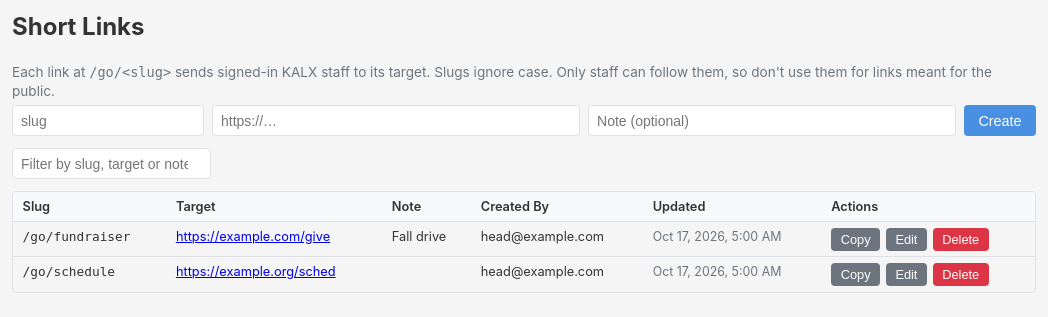
Test: ShortLinksSection › edits a link in place
Step 1. Click the button with aria-label "Edit /go/fundraiser" → (906, 239), box [886,228,927,251]
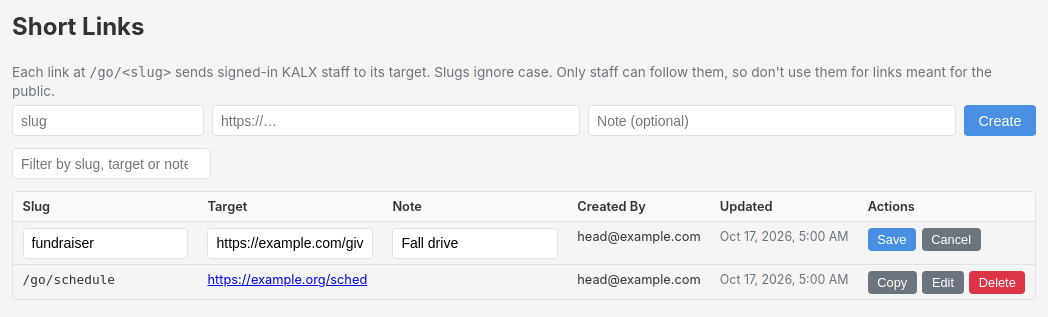
Step 2. Replace the text in the field named "Edit slug" with "drive" → (105, 243), box [23,228,188,258]
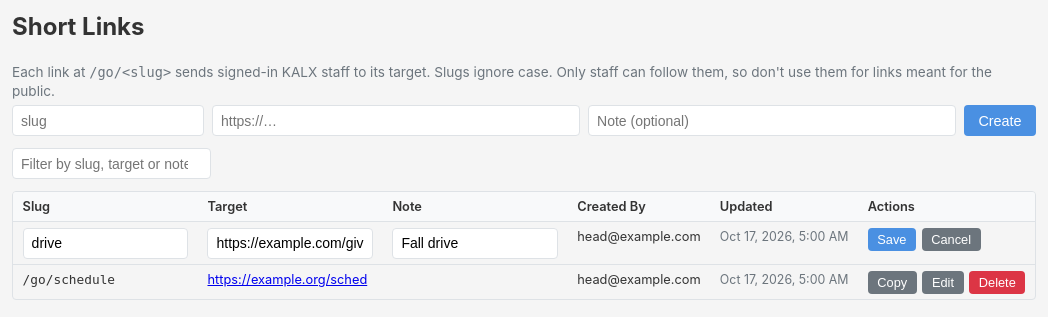
Step 3. Replace the text in the field named "Edit target URL" with "https://example.com/new" → (290, 243), box [208,228,373,258]
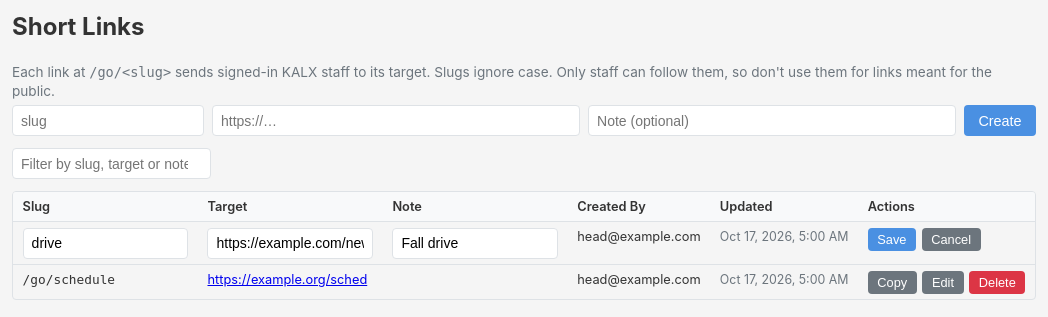
Step 4. Clear the field named "Edit note" → (475, 243), box [392,228,558,258]
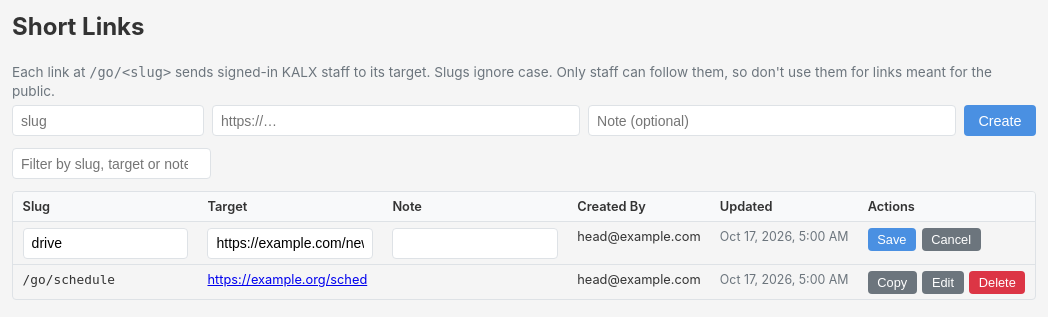
Step 5. Click the button "Save" → (892, 239), box [868,228,916,251]
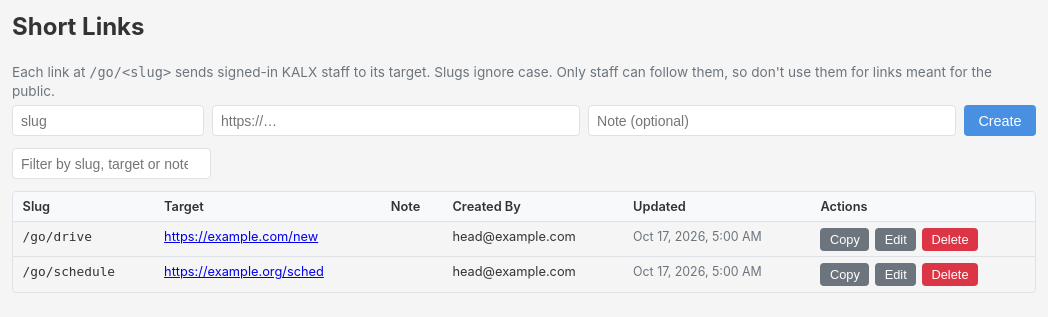
Check: the text "/go/drive" is shown, box [23,229,92,244]
